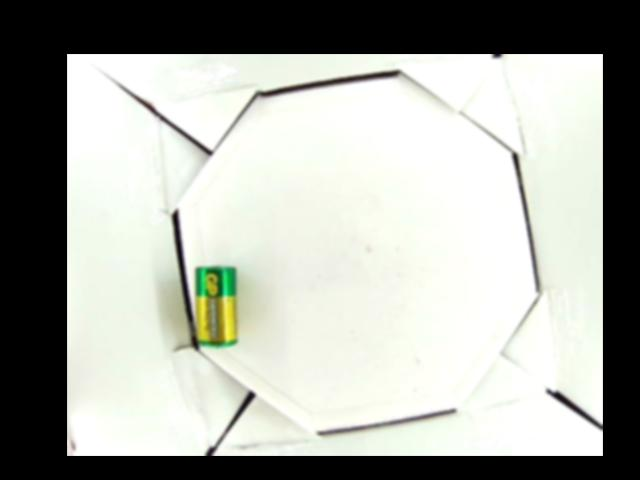Battery: (196, 266, 236, 348)
